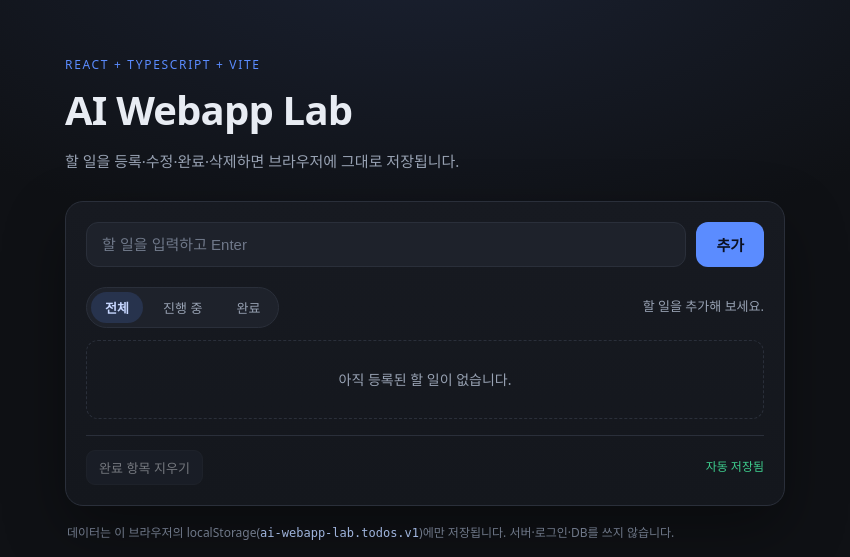
AI Webapp Lab — 할 일 관리 › 할 일을 수정하면 목록과 localStorage에 반영된다
Type "운동 30분" into the field with test id "todo-input".
click(386, 244); type("운동 30분")  # box [86, 222, 686, 266]
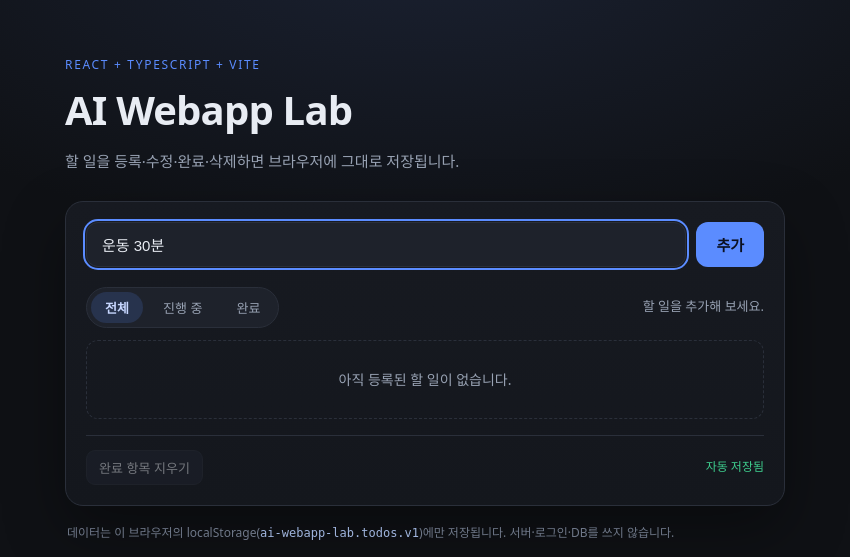
Click the button with test id "todo-add".
click(730, 244)  # box [696, 222, 764, 266]
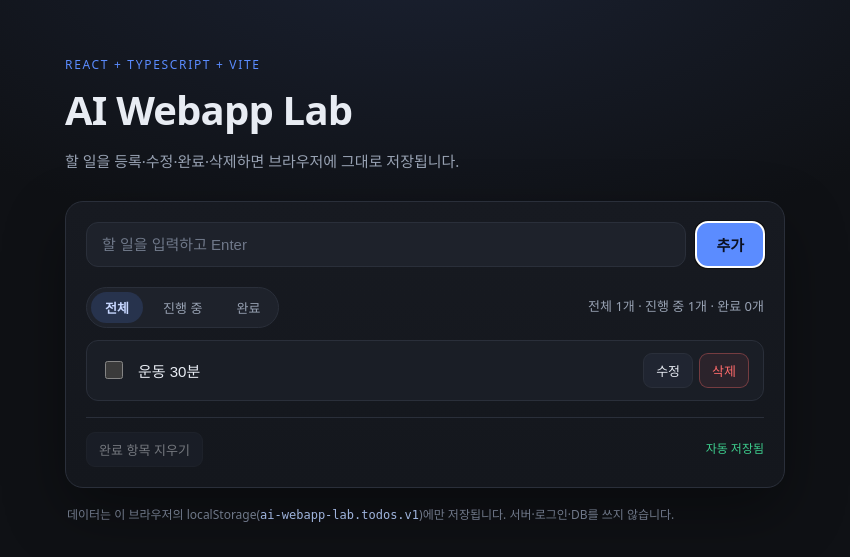
Click the button with test id "todo-edit".
click(668, 370)  # box [643, 352, 693, 388]
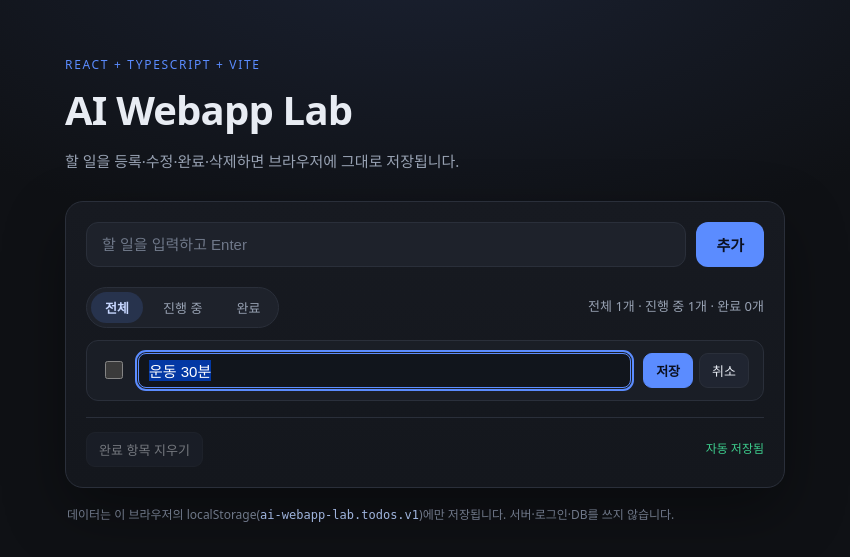
Expected: the field with test id "todo-edit-input" holds "운동 30분"
Replace the text in the field with test id "todo-edit-input" with "운동 1시간" at (385, 370), box [138, 352, 631, 388]
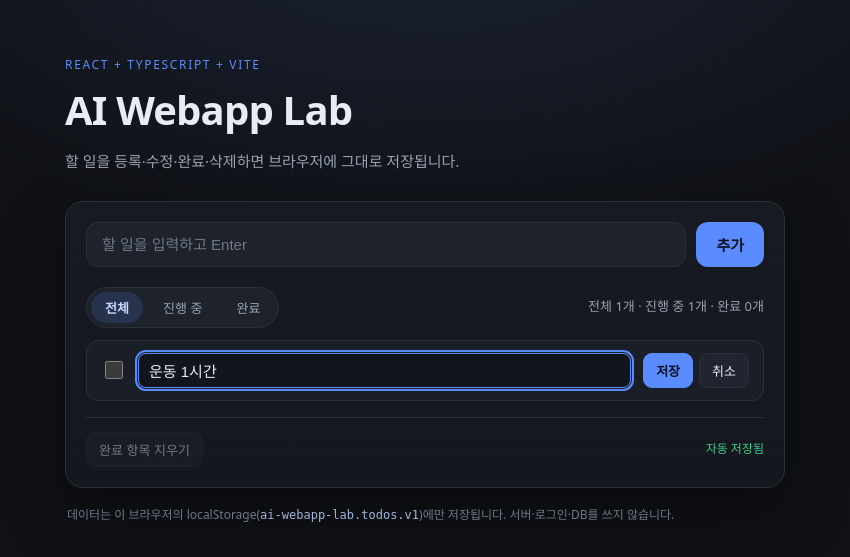
Click the button with test id "todo-save".
click(668, 370)  # box [643, 352, 693, 388]
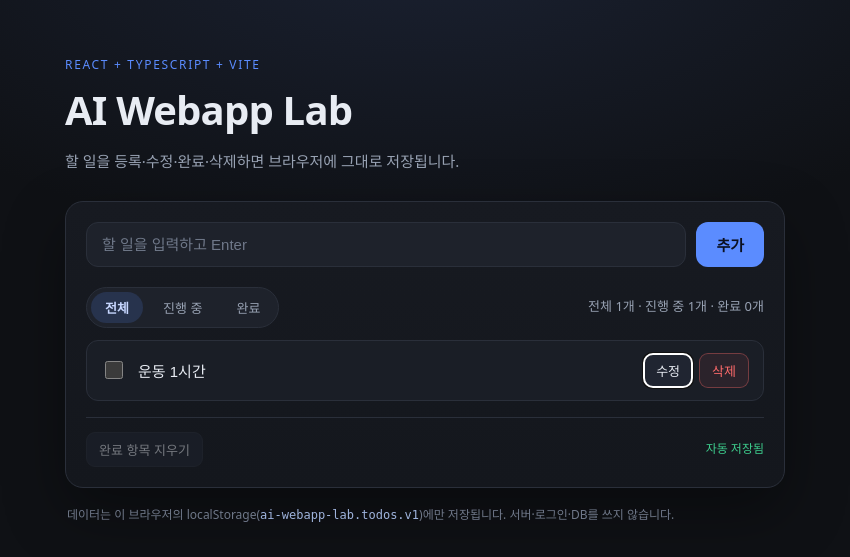
Expected: the button with test id "todo-title" reads "운동 1시간", [138, 360, 631, 380]
Expected: the field with test id "todo-edit-input" is gone
